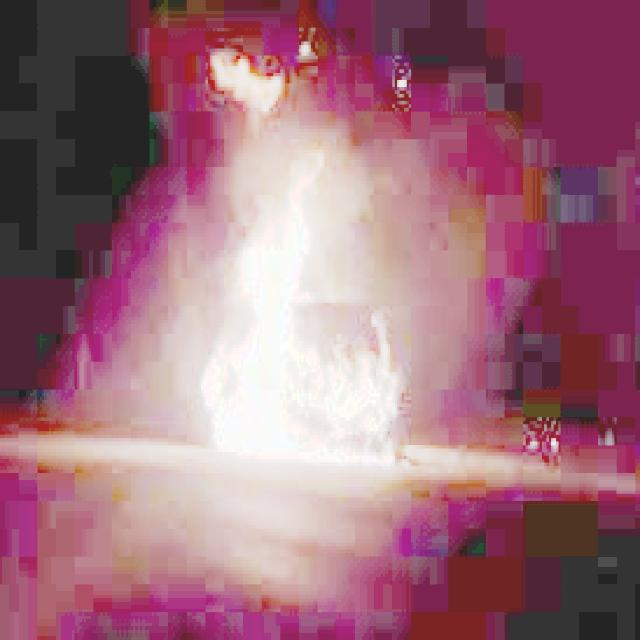api: (198, 151, 415, 471), (197, 43, 305, 133)
